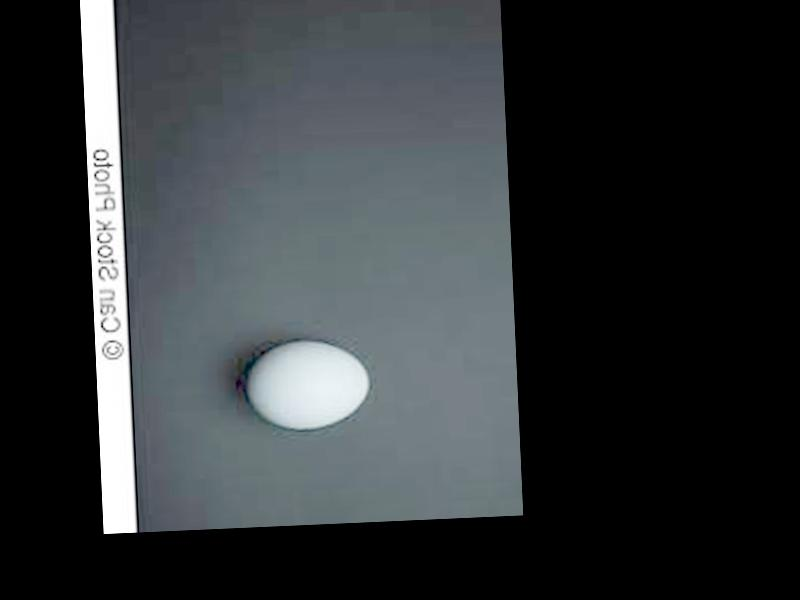Eggs: (246, 339, 371, 433)
